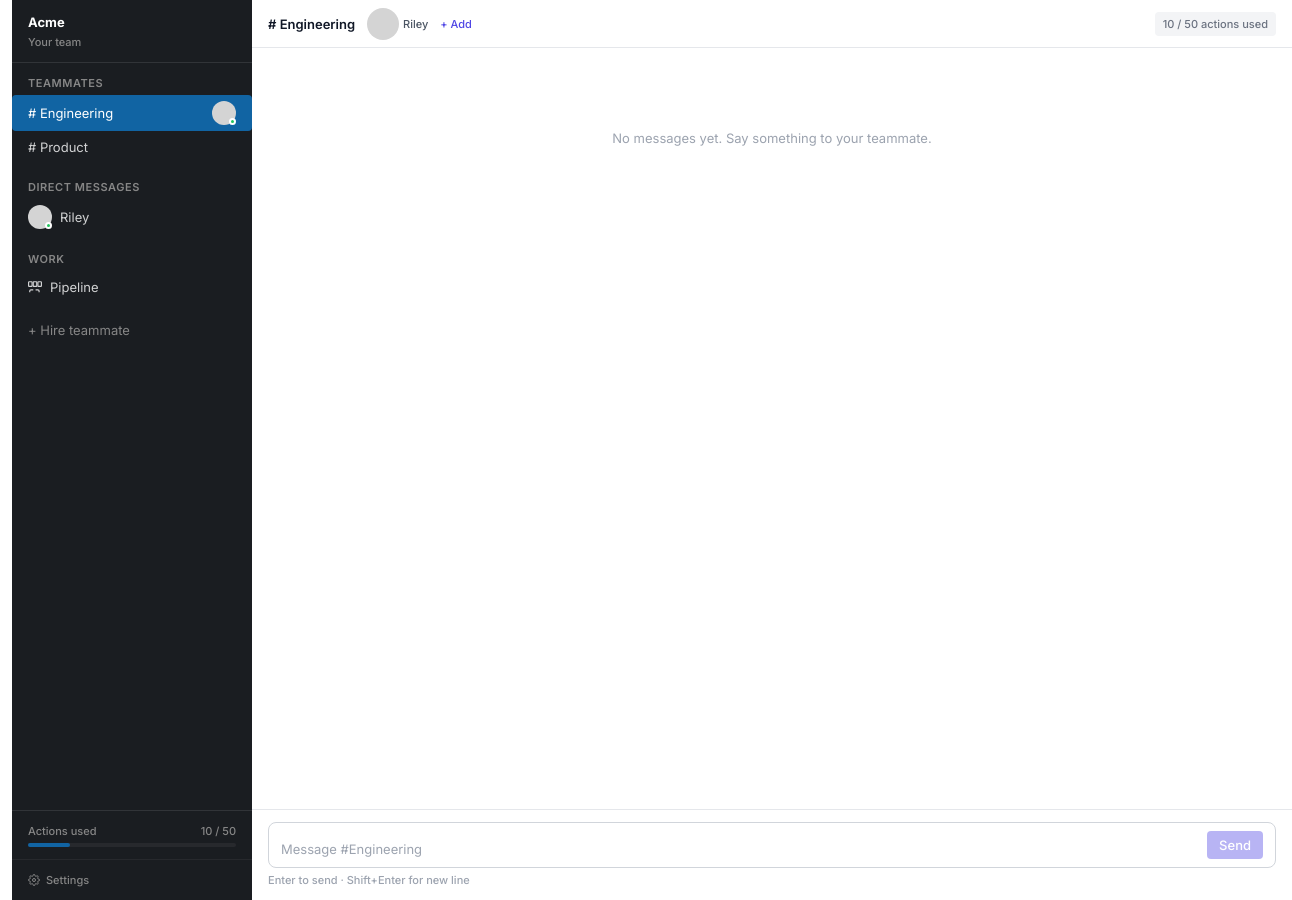
it: WorkspaceShell — Pipeline panel › clicking Pipeline button shows PipelinePanel and hides chat
Click the button with test id "pipeline-link" at [132, 287], box [12,271,252,303]
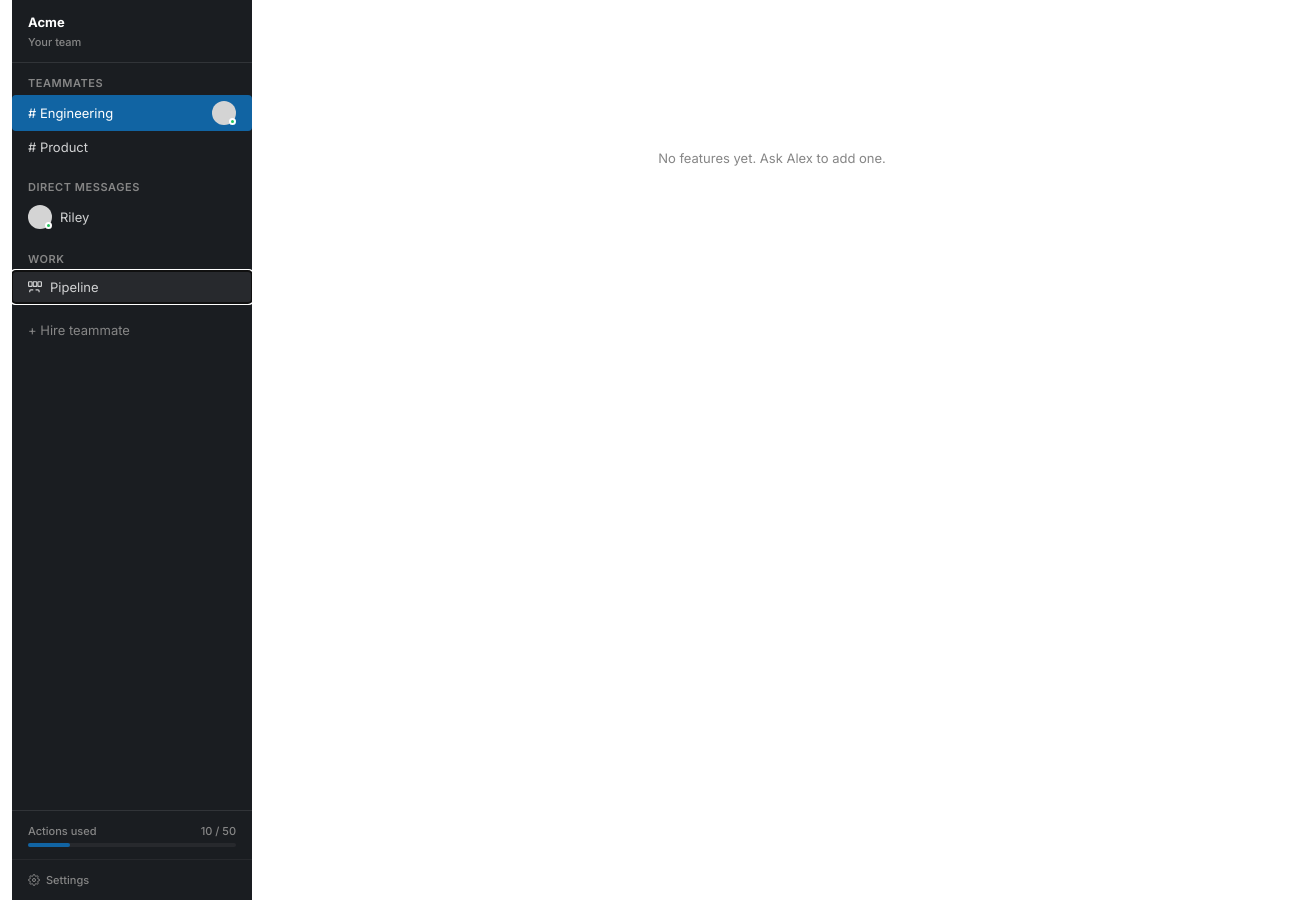
Now the element with test id "pipeline-panel" is shown, box [284,34,886,166]
